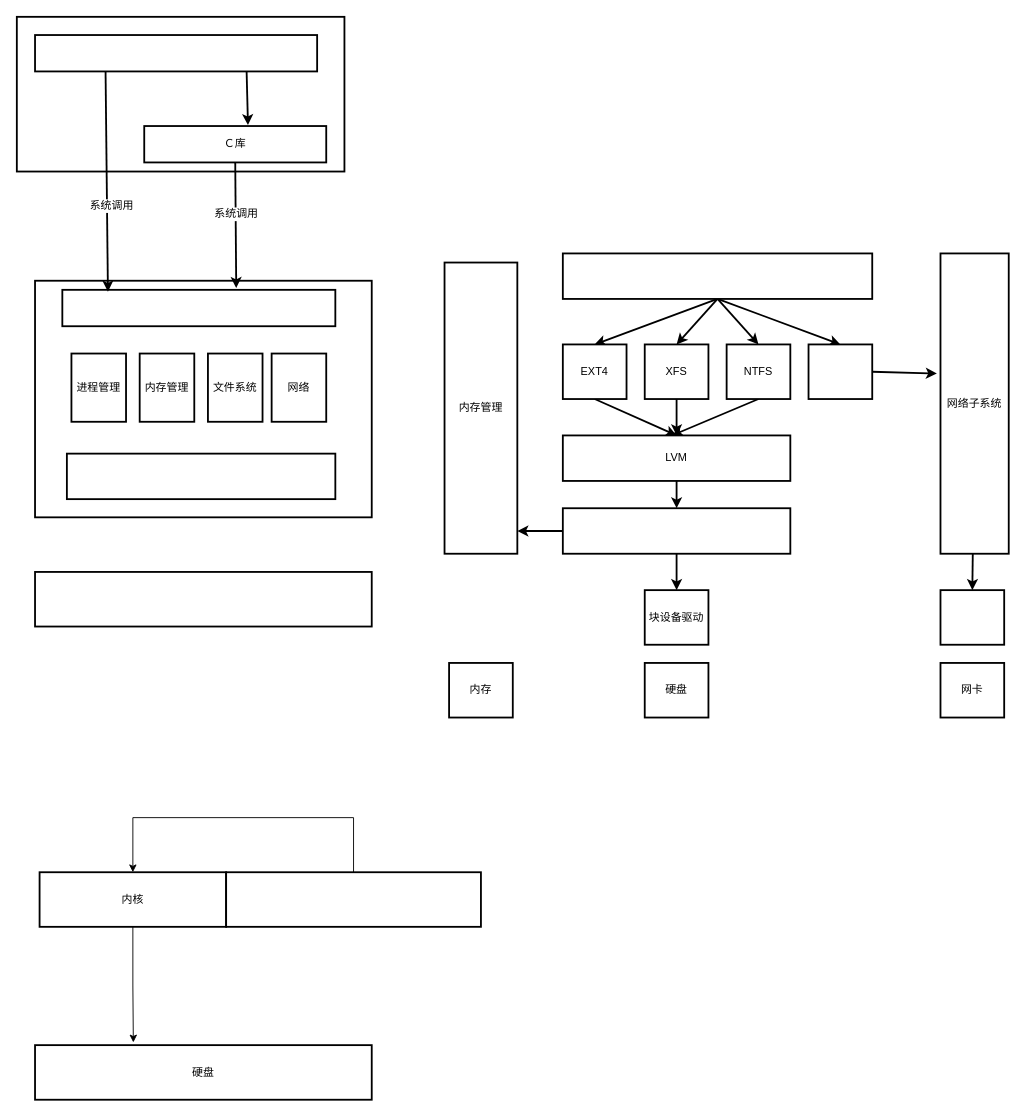
This 1025x1116 diagram has some shape labels left out. Each missing label, with the centre of its shape:
"NFS" belongs at pixel 840 371.
"VFS" belongs at pixel 717 275.
"应用程序" belongs at pixel 176 53.
"用户空间" belongs at pixel 353 899.
"硬件" belongs at pixel 203 599.
"系统调用接口" belongs at pixel 198 307.
"缓存" belongs at pixel 676 530.
"网络设备驱动" belongs at pixel 972 617.
"设备驱动 CPU, Memory, Storage,Network" belongs at pixel 201 476.
